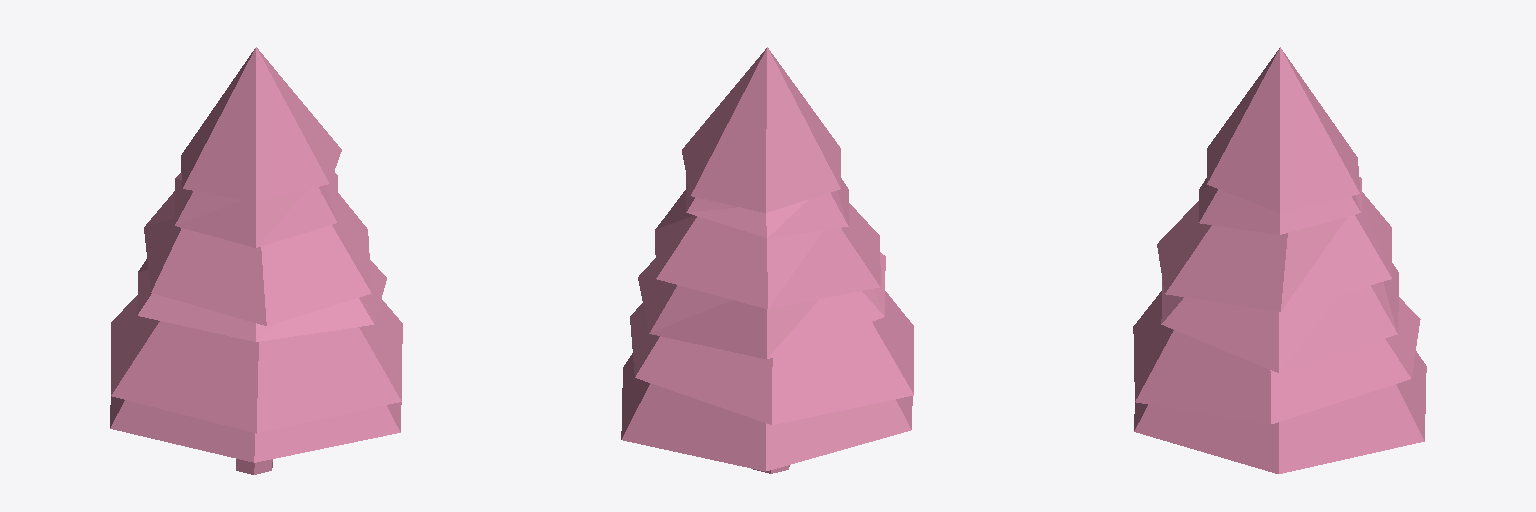
File: tree.obj
The picture shows the model from 3 angles: view 1: azimuth 30°, elevation 25°; view 2: azimuth 150°, elevation 25°; view 3: azimuth 270°, elevation 25°; orthographic projection.
Parts seen in each view (by area): view 1: Cone001; view 2: Cone001; view 3: Cone001.
Part boxes in pixels (x1,y1,x2,y2): Cone001: (110,47,402,474); Cone001: (621,47,913,473); Cone001: (1133,47,1426,473).
Bounding box in the file's own units: 39.55 × 54.21 × 34.46.